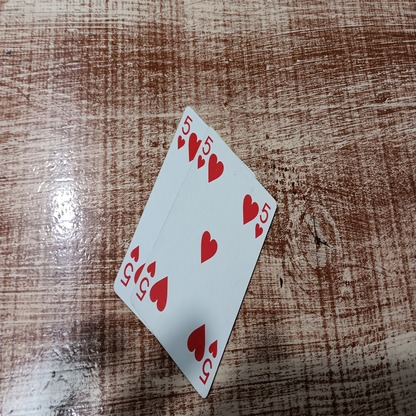5h: (198, 338, 219, 385), (119, 242, 138, 288), (137, 260, 156, 303), (255, 198, 272, 238), (197, 133, 213, 169), (175, 115, 191, 150)
